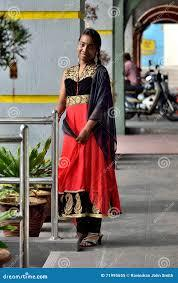Human: (49, 24, 122, 260)
